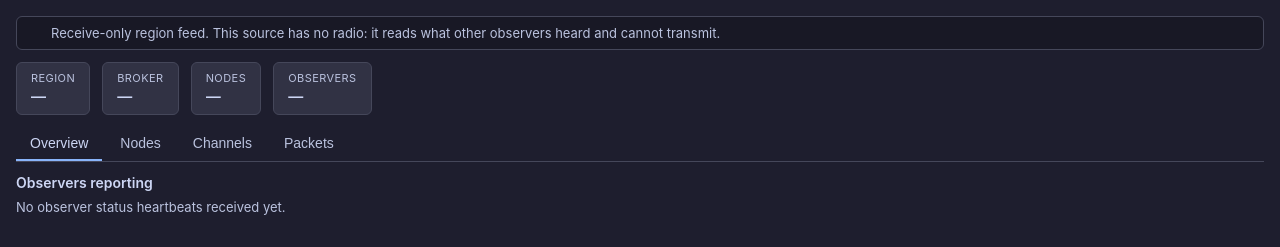
it: MeshCoreIngestView (#5096) › loads nodes only once the Nodes tab is opened
Click the button "Nodes" at (141,144), box [106,127,175,161]
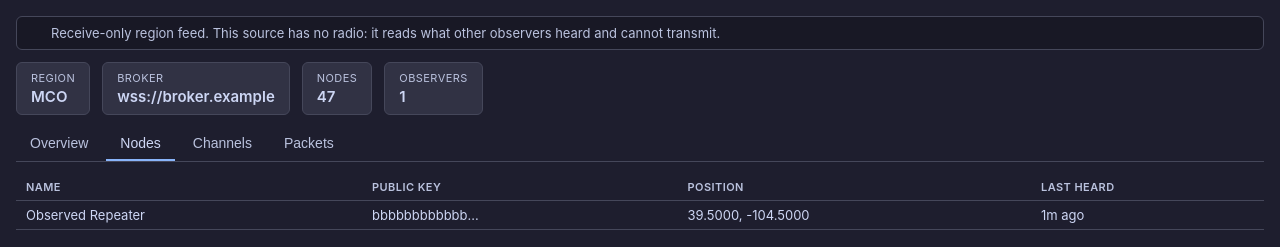
expect the text "Observed Repeater" is shown: met, box [16,200,362,230]
